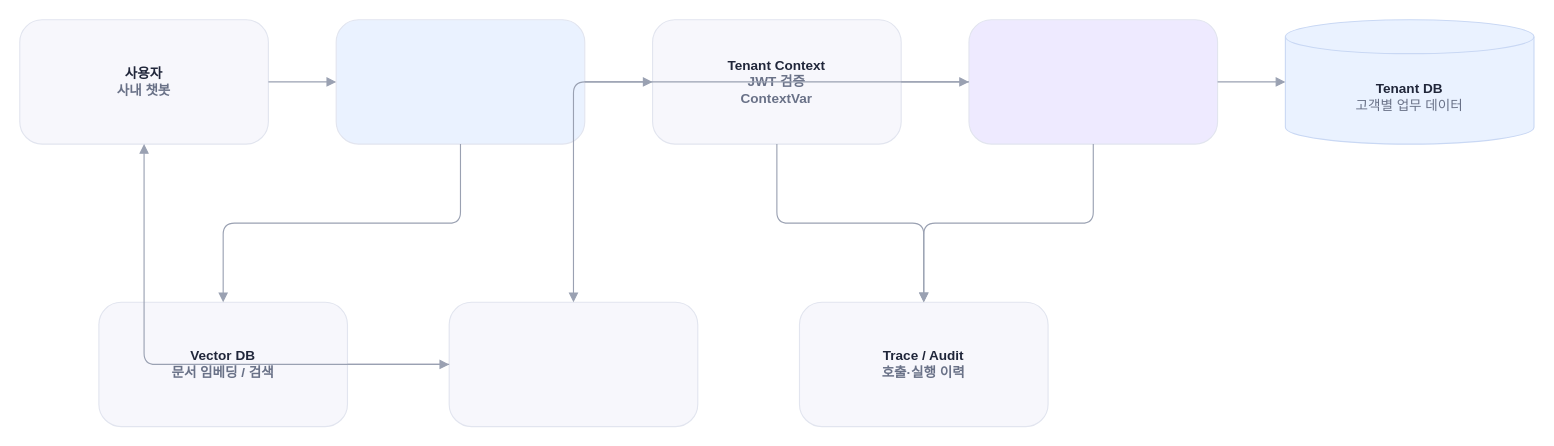
The diagram is 1554 pixels wide and 446 high, and some of its shapes have lost their labels. Here are the shapes that lost their labels. From the top down, the box of each, then its label:
(335, 19, 585, 144): Agent API 인증 · 요청 처리
(968, 19, 1218, 144): MCP Server 공통 Tool Layer
(448, 301, 698, 427): LLM 답변 생성
